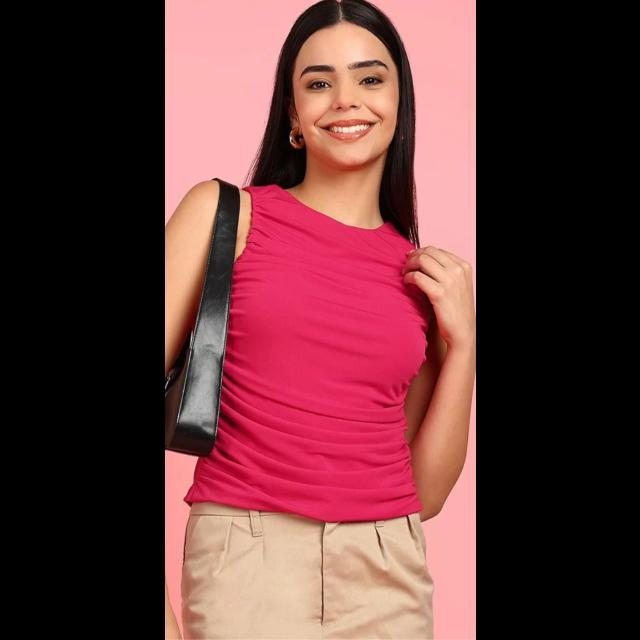bottom: (178, 488, 430, 640)
ear ring: (283, 130, 303, 150)
handbag: (170, 173, 230, 454)
top: (196, 181, 434, 537)
